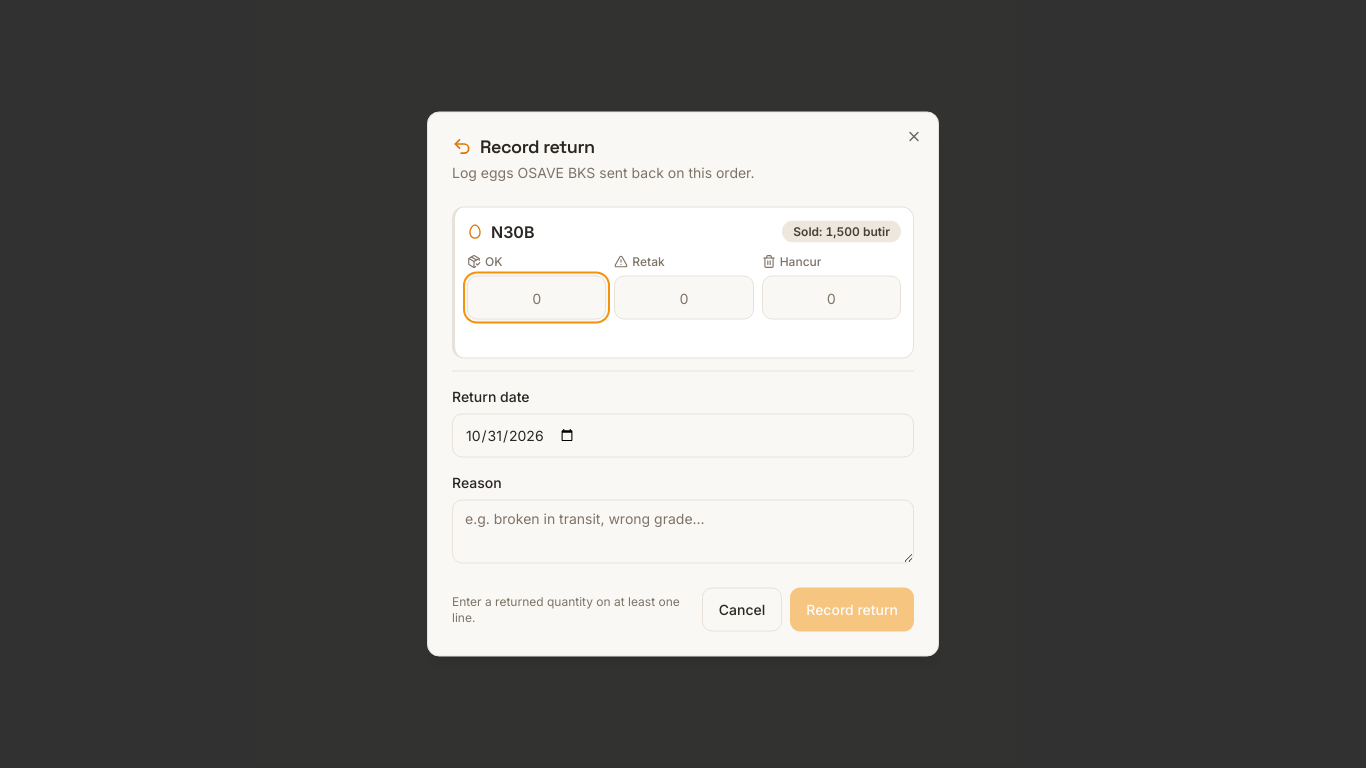
Test: RecordReturnDialog › keeps the prior-returns cap when pack SKUs load after open
The width and height of the screenshot is (1366, 768).
Type "999" into the field labelled "OK" at (537, 298), box [467,276,606,320]
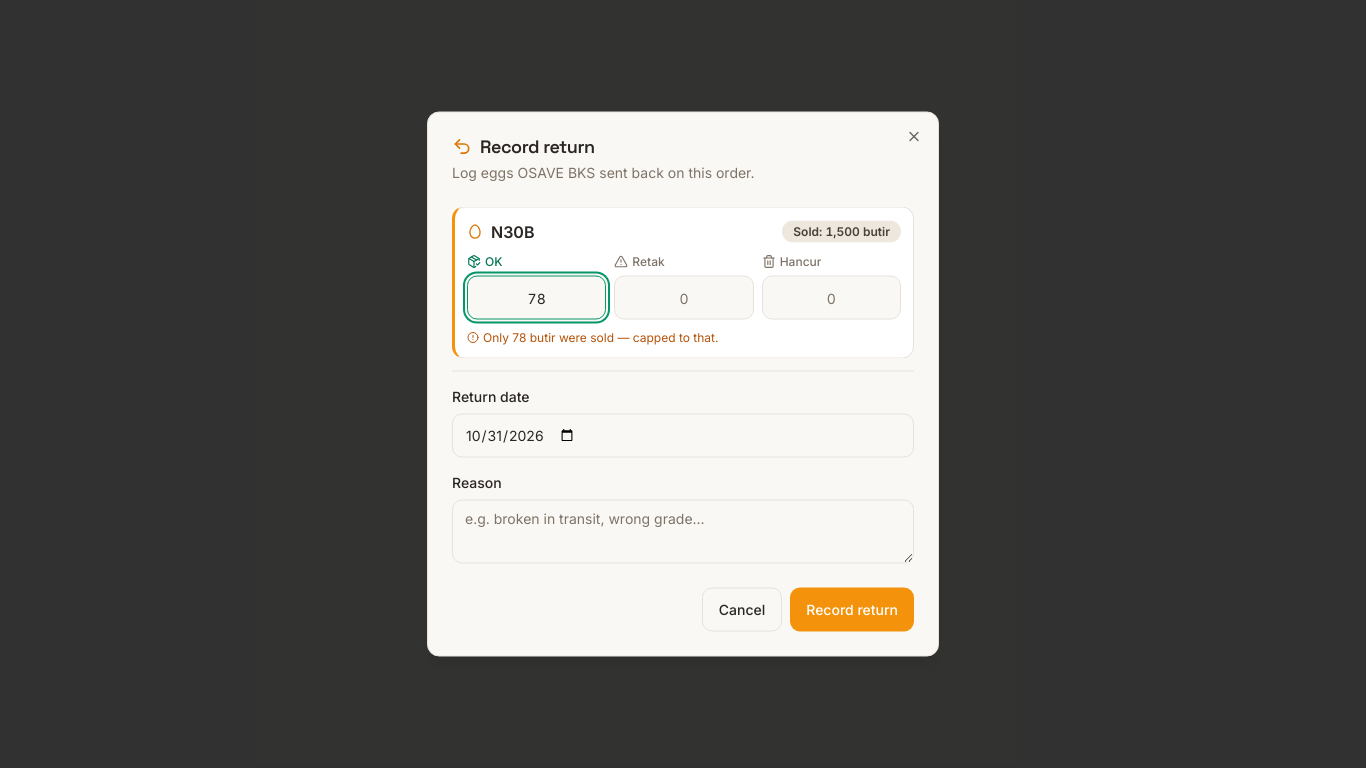
Check: the field labelled "OK" holds "78", box [467,276,606,320]
